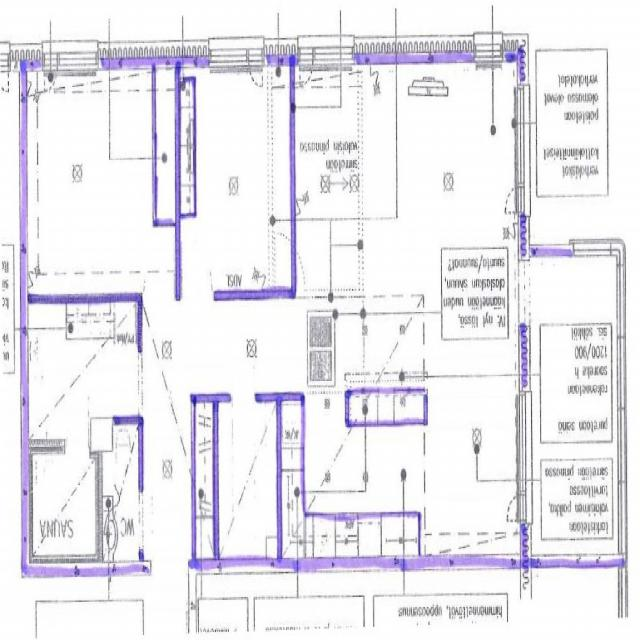door: (66, 396, 88, 454)
